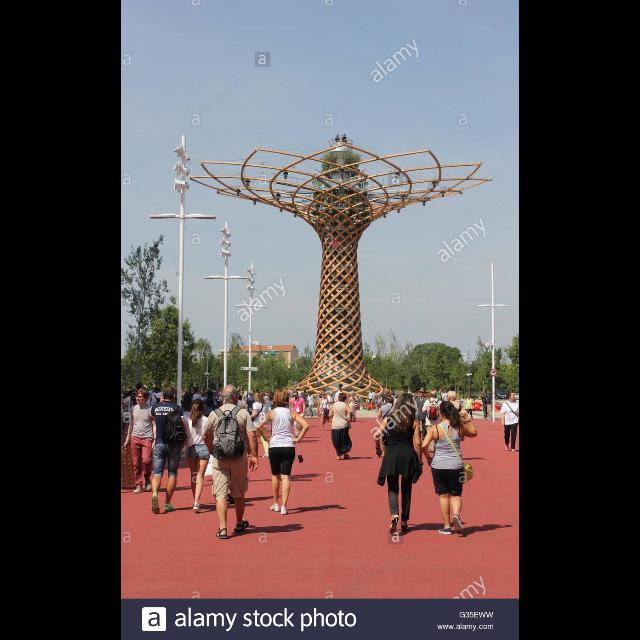head: (222, 385, 240, 407), (438, 400, 456, 422), (398, 393, 414, 412), (276, 390, 290, 408), (162, 386, 176, 402), (192, 398, 206, 414), (136, 390, 148, 404), (448, 391, 458, 402), (254, 393, 264, 403), (386, 394, 394, 404), (508, 392, 516, 401), (340, 393, 348, 401), (154, 386, 162, 394), (206, 390, 214, 398), (268, 390, 274, 400), (137, 384, 143, 392), (394, 392, 402, 398), (420, 390, 426, 398), (431, 390, 437, 398), (128, 390, 134, 396), (193, 388, 199, 394), (249, 390, 255, 396), (293, 392, 299, 398), (238, 395, 242, 401), (322, 392, 326, 398), (468, 394, 472, 400), (488, 390, 492, 396), (308, 392, 312, 396), (330, 392, 334, 396), (348, 394, 352, 398), (352, 394, 356, 398), (482, 391, 486, 395), (341, 388, 344, 392), (371, 389, 374, 393), (244, 388, 246, 392), (292, 388, 294, 392), (376, 392, 378, 394)
person: (201, 384, 261, 540), (421, 399, 479, 537), (374, 392, 424, 538), (259, 386, 313, 516), (146, 384, 192, 516), (178, 397, 214, 515), (122, 387, 158, 495), (328, 392, 357, 462), (246, 392, 272, 460), (444, 390, 468, 454), (422, 390, 444, 454), (378, 394, 397, 458), (150, 386, 166, 440), (290, 391, 306, 444), (202, 390, 218, 442), (130, 382, 144, 436), (414, 390, 428, 442), (245, 390, 258, 442), (316, 391, 332, 432), (265, 390, 277, 442), (124, 388, 136, 436), (391, 389, 403, 433), (190, 387, 202, 428), (462, 394, 478, 421), (346, 393, 358, 423), (351, 391, 361, 423), (479, 391, 489, 422), (326, 392, 336, 422), (334, 387, 344, 417), (485, 390, 495, 420), (364, 389, 376, 413), (305, 390, 315, 418), (372, 390, 382, 414), (236, 395, 244, 421), (288, 387, 296, 411), (242, 386, 248, 409)
